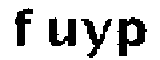f: (10, 6, 36, 50)
p: (113, 12, 151, 60)
u: (45, 17, 79, 51)
y: (80, 15, 111, 60)
